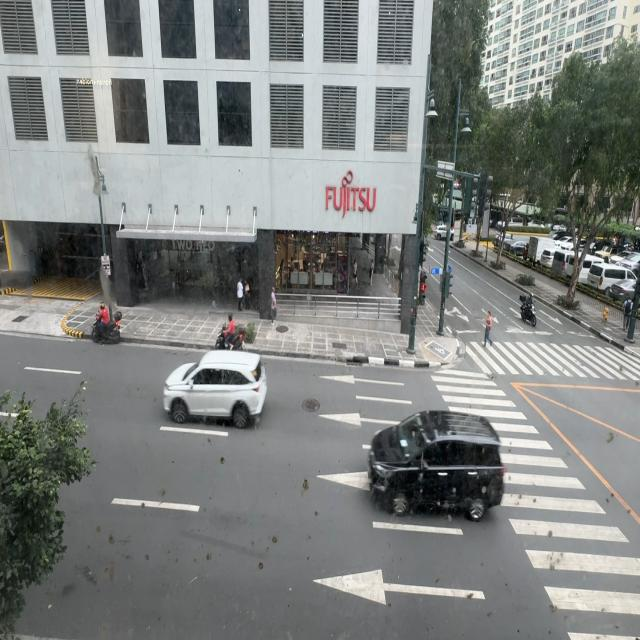crossing: (484, 311, 494, 347)
